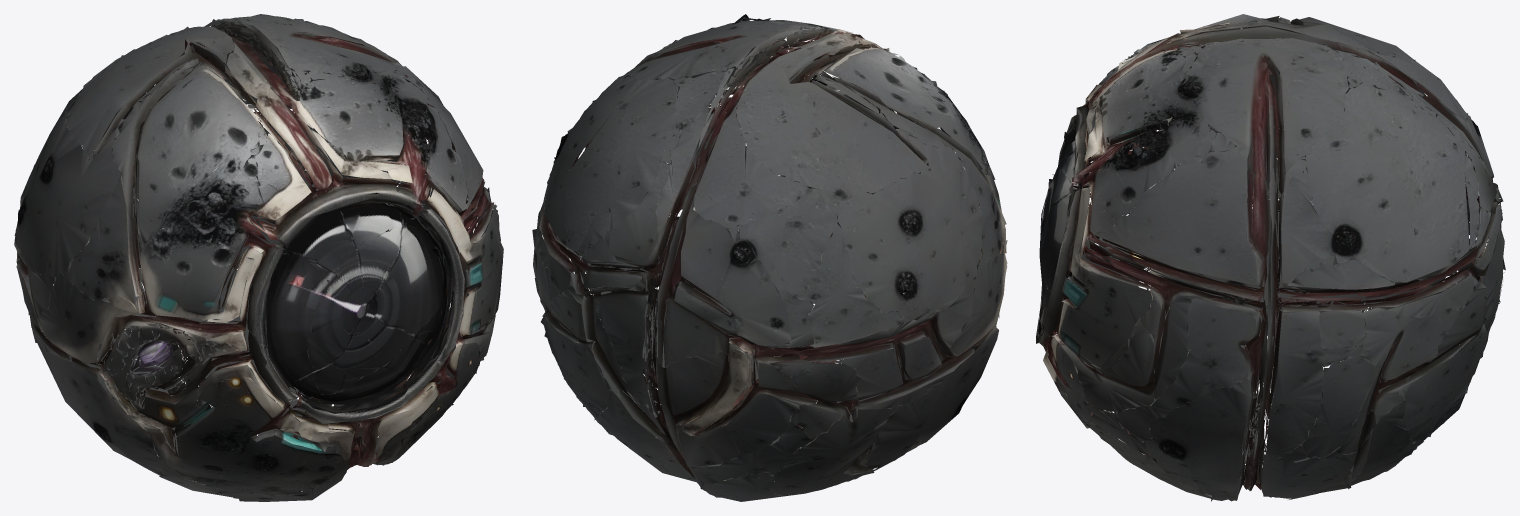
The model's file is drop_survey_probe.glb.
3 views of the same model, side by side, from view 1: azimuth 30°, elevation 25°; view 2: azimuth 150°, elevation 25°; view 3: azimuth 270°, elevation 25° (orthographic). The views are drawn at different scales.
Parts seen in each view (by area): view 1: node_0; view 2: node_0; view 3: node_0.
Boxes of the visible parts, bbox=[...] form: node_0: bbox=[14, 14, 503, 501]; node_0: bbox=[532, 14, 1007, 501]; node_0: bbox=[1036, 14, 1505, 501].
Bounding box in the file's own units: 1.13 × 1.14 × 1.09.
Materials: 1 (1 with a texture image).
